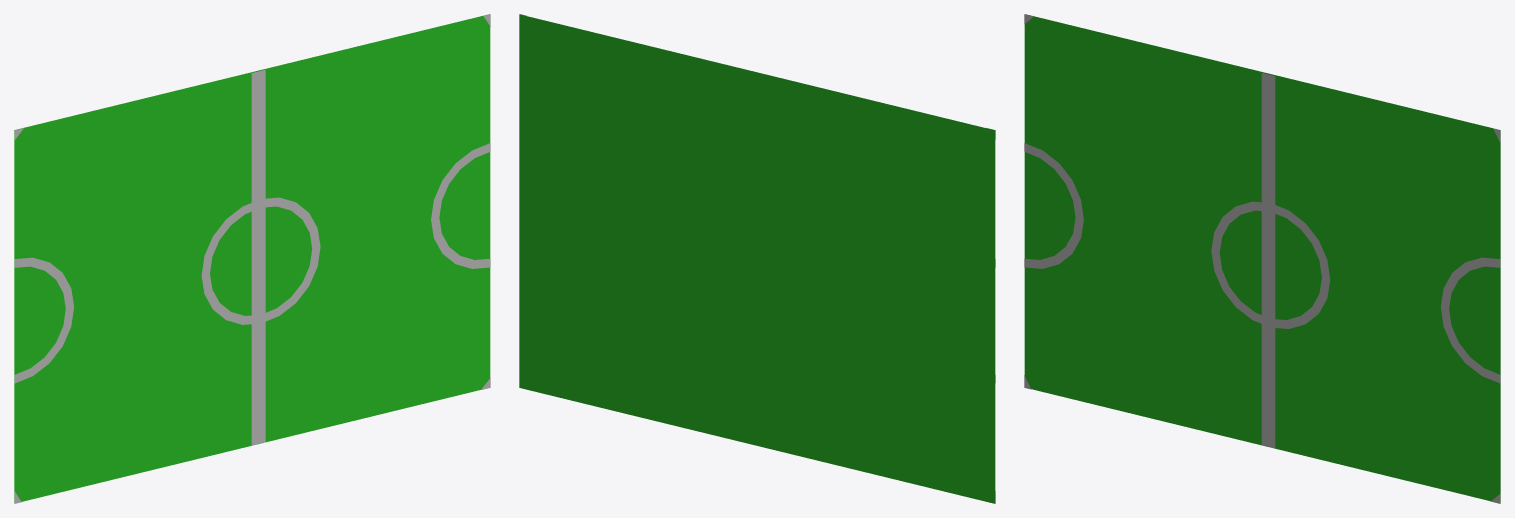
The model's file is field.obj.
3 renders of one model, left to right at view 1: azimuth 30°, elevation 25°; view 2: azimuth 150°, elevation 25°; view 3: azimuth 330°, elevation 25°, orthographic.
Parts seen in each view (by area): view 1: Plane; view 2: Plane; view 3: Plane.
Part boxes in pixels (x1,y1,x2,y2): Plane: (14, 14, 490, 503); Plane: (519, 14, 995, 503); Plane: (1024, 14, 1500, 503).
Size of the model in its own units: 8 by 6 by 0.0101.
